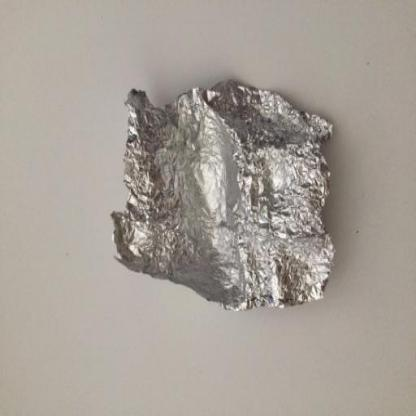Compsot: (110, 78, 334, 310)
